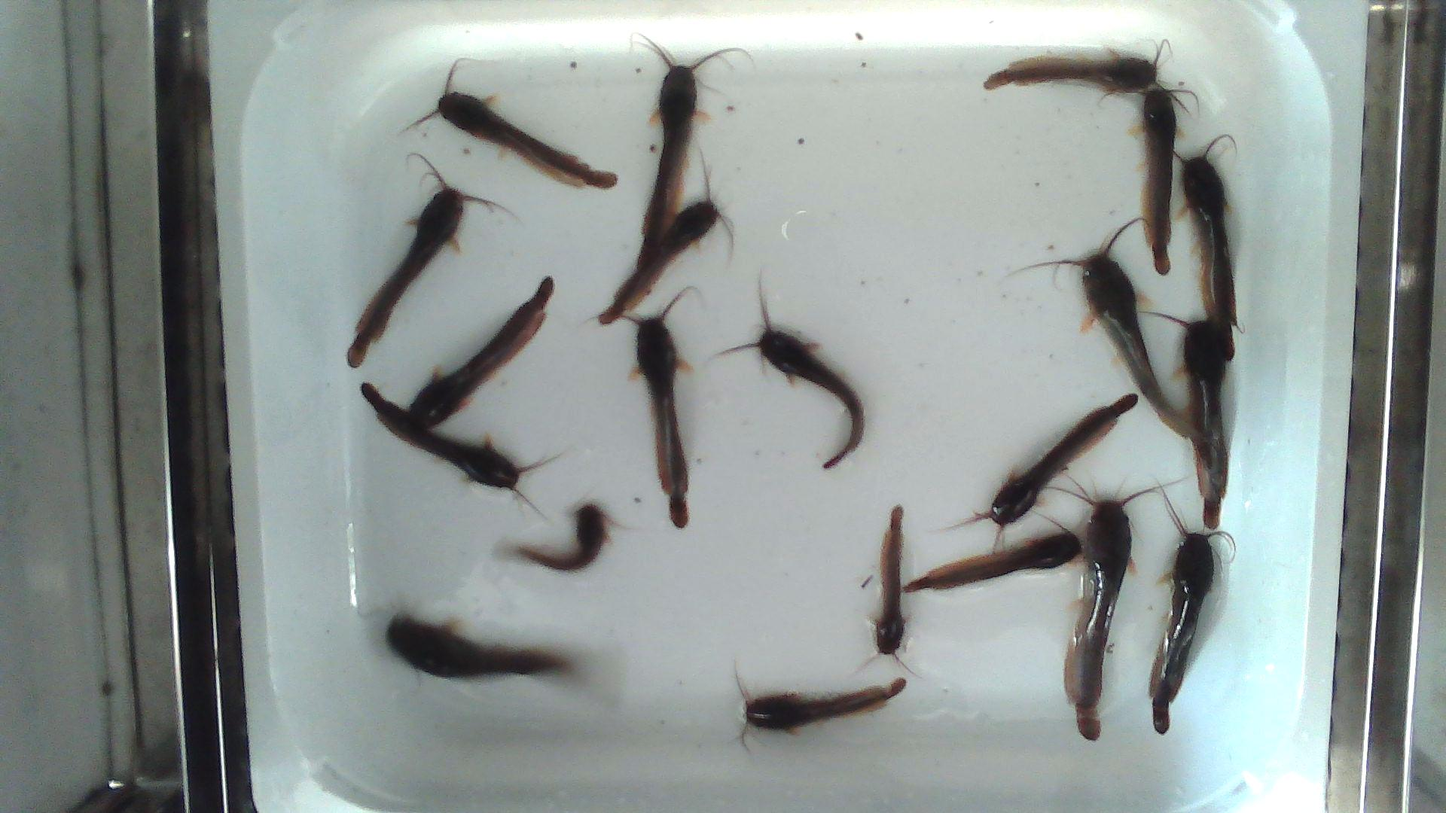lele: (347, 154, 494, 367), (632, 32, 743, 267), (411, 64, 617, 188), (599, 147, 734, 327), (409, 272, 558, 429), (1081, 251, 1192, 438), (990, 394, 1136, 525), (362, 383, 523, 489), (1065, 501, 1130, 739), (756, 324, 863, 467), (1151, 533, 1214, 733), (637, 312, 688, 527), (387, 616, 569, 676), (1183, 156, 1234, 367), (905, 533, 1080, 592), (1183, 320, 1231, 526), (744, 678, 906, 729), (1142, 87, 1176, 273), (984, 56, 1157, 92), (518, 504, 607, 570), (875, 507, 905, 653)
